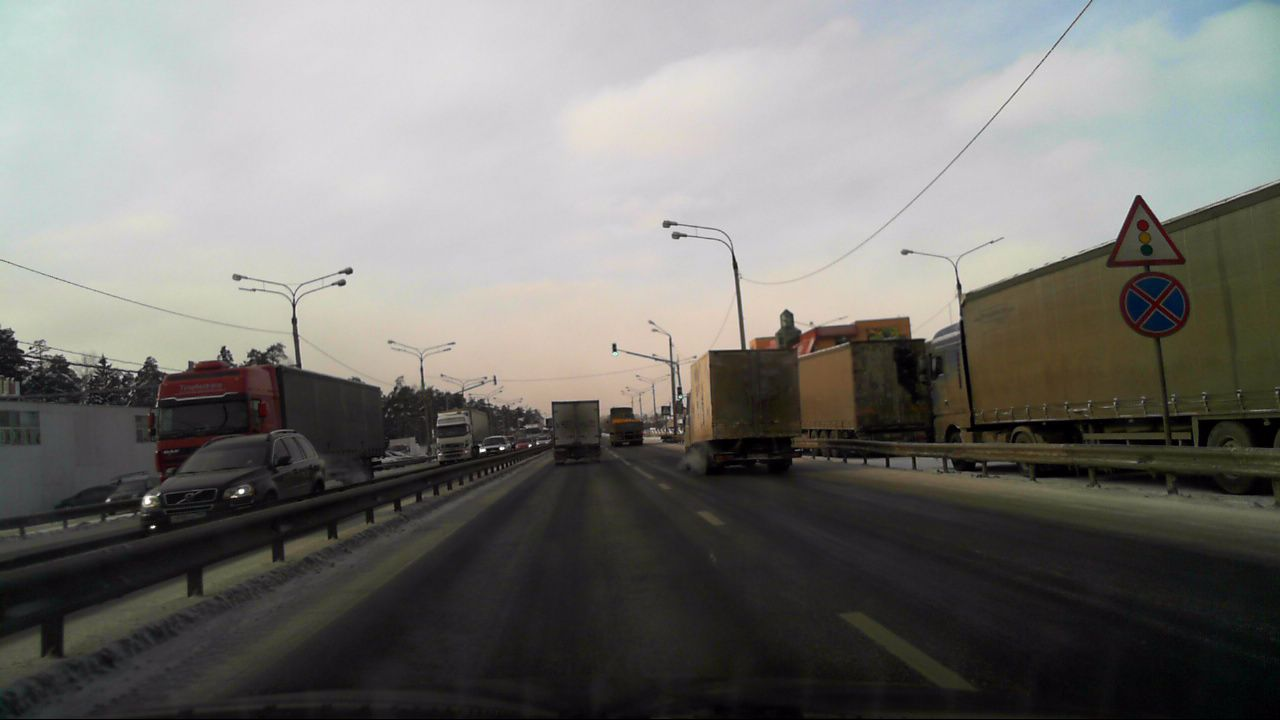No Parking: (1120, 274, 1189, 335)
